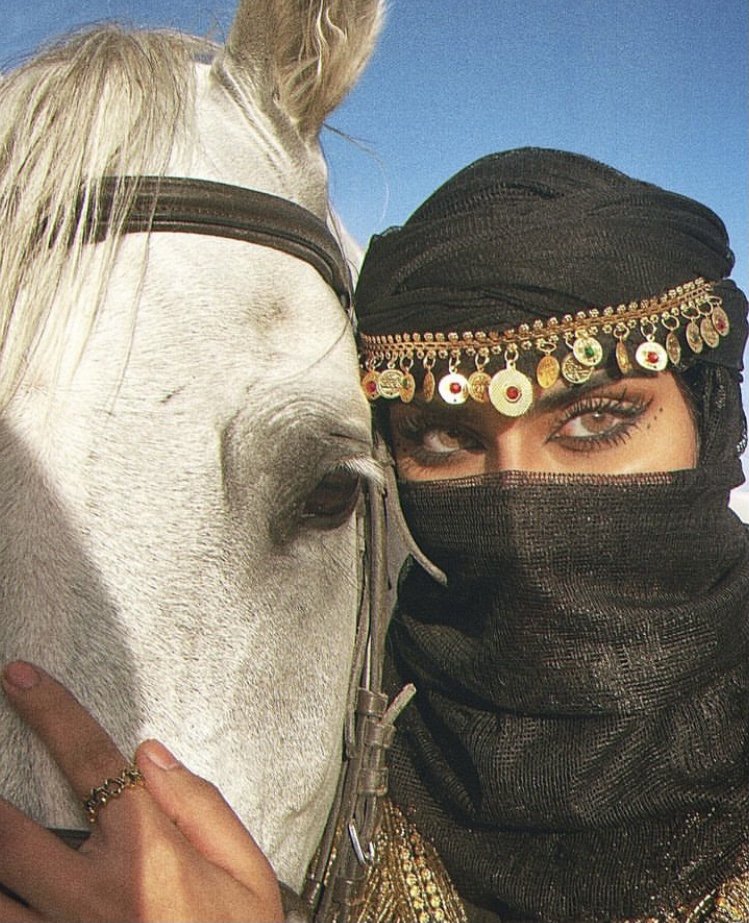Saudi_Founding_Day: (348, 141, 749, 923)
